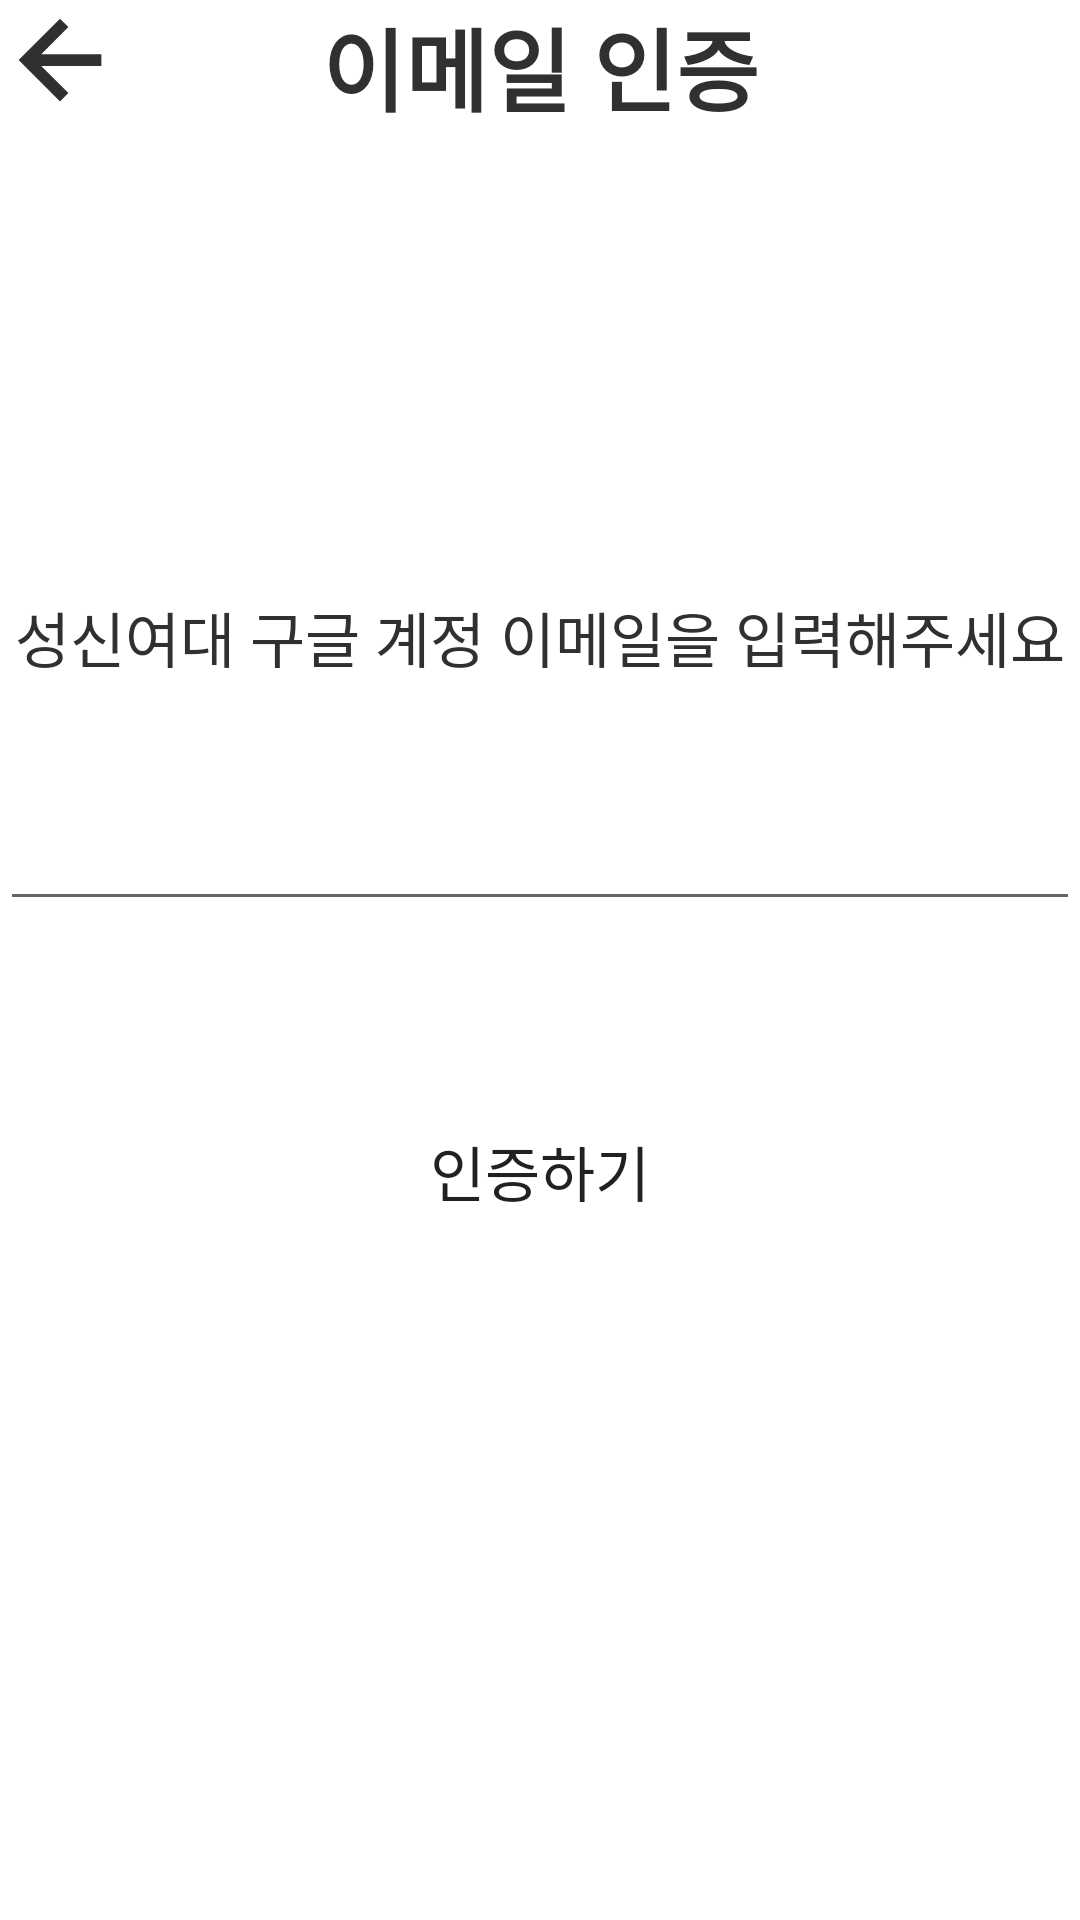

Icon bounding boxes for this 1080×1920 phone screenshot, format (x1, y1, x2, y2):
arrow back: (19, 19, 102, 102)
